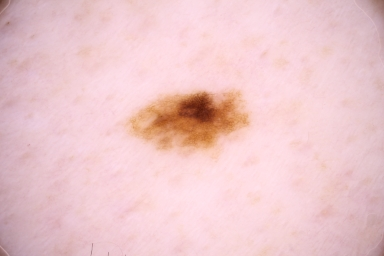nevus: (131, 95, 251, 152)
